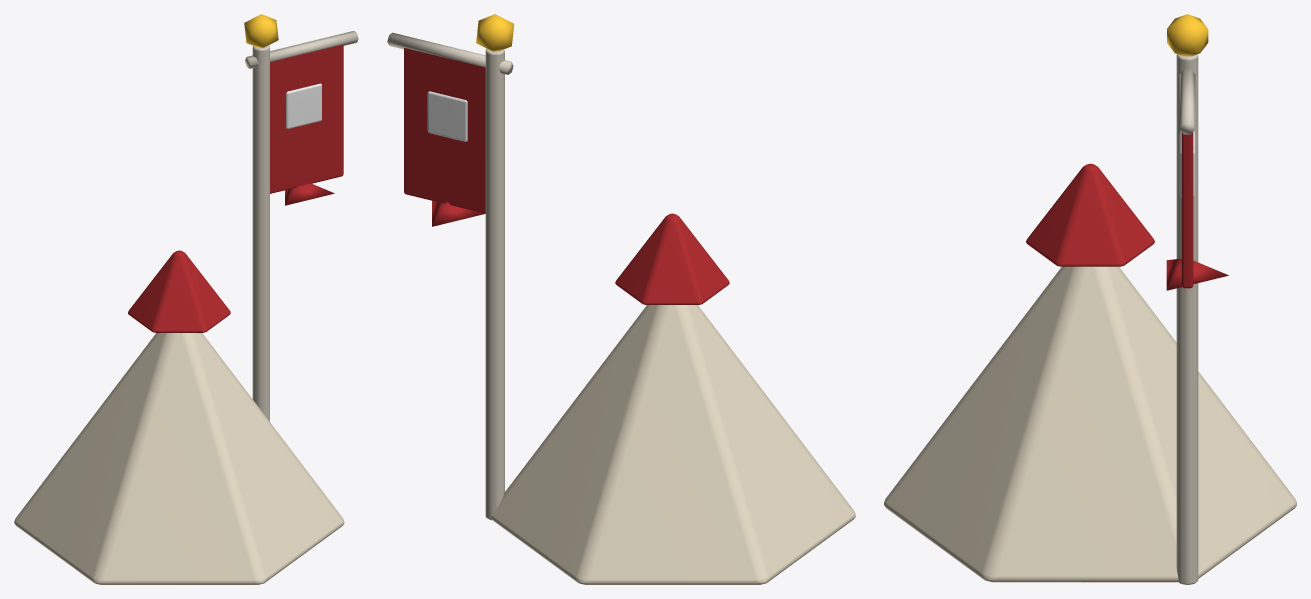
The model's file is tent_red.glb.
3 renders of one model, left to right at view 1: azimuth 30°, elevation 25°; view 2: azimuth 150°, elevation 25°; view 3: azimuth 270°, elevation 25°, orthographic. The views are drawn at different scales.
Parts seen in each view (by area): view 1: tent; view 2: tent; view 3: tent.
Boxes of the visible parts, x1,y1,x2,y2 form: tent: (14,14,358,584); tent: (387,14,855,584); tent: (884,14,1296,584).
Bounding box in the file's own units: 0.5065 × 0.645 × 0.4254.
Materials: 2 (1 with a texture image).
